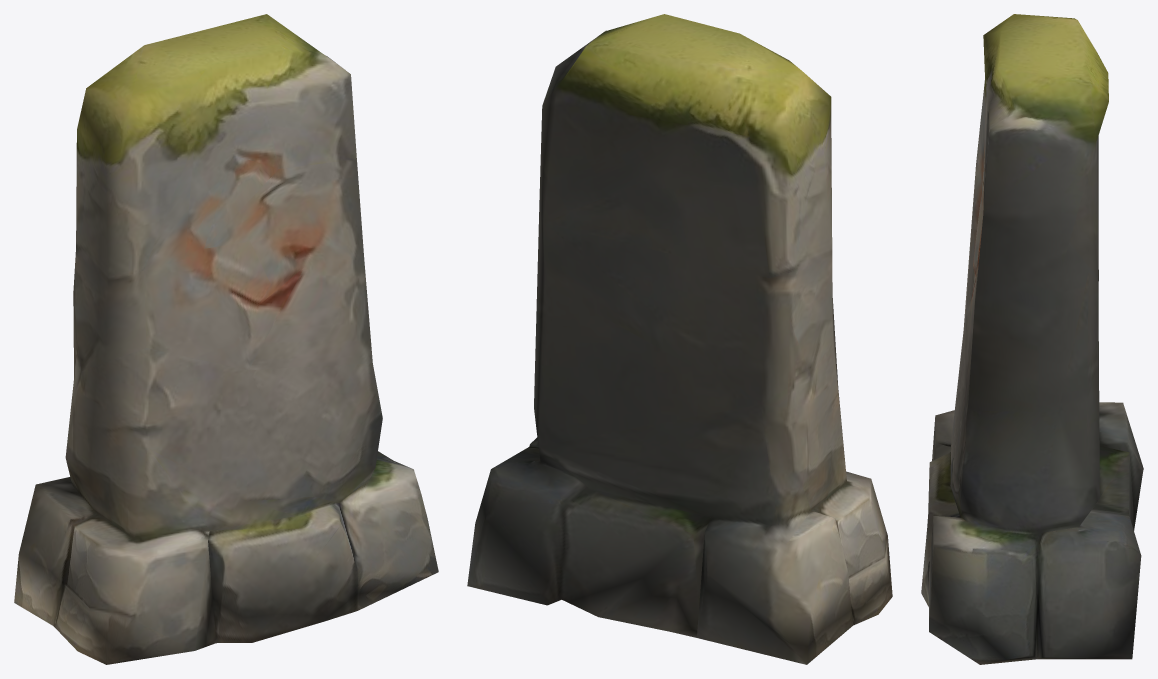
File: arena_rune_stone.glb
The picture shows the model from 3 angles, left to right: view 1: azimuth 30°, elevation 25°; view 2: azimuth 150°, elevation 25°; view 3: azimuth 270°, elevation 25°; orthographic projection. The views are drawn at different scales.
Visible parts, largest first — view 1: tripo_node_69fe9ad4-41d6-43c8-94fa-c71814336429; view 2: tripo_node_69fe9ad4-41d6-43c8-94fa-c71814336429; view 3: tripo_node_69fe9ad4-41d6-43c8-94fa-c71814336429.
Boxes of the visible parts, bbox=[...] form: tripo_node_69fe9ad4-41d6-43c8-94fa-c71814336429: bbox=[14, 14, 438, 664]; tripo_node_69fe9ad4-41d6-43c8-94fa-c71814336429: bbox=[467, 14, 892, 664]; tripo_node_69fe9ad4-41d6-43c8-94fa-c71814336429: bbox=[921, 14, 1143, 664].
Bounding box in the file's own units: 0.6652 × 0.9955 × 0.377.
Materials: 1 (1 with a texture image).
